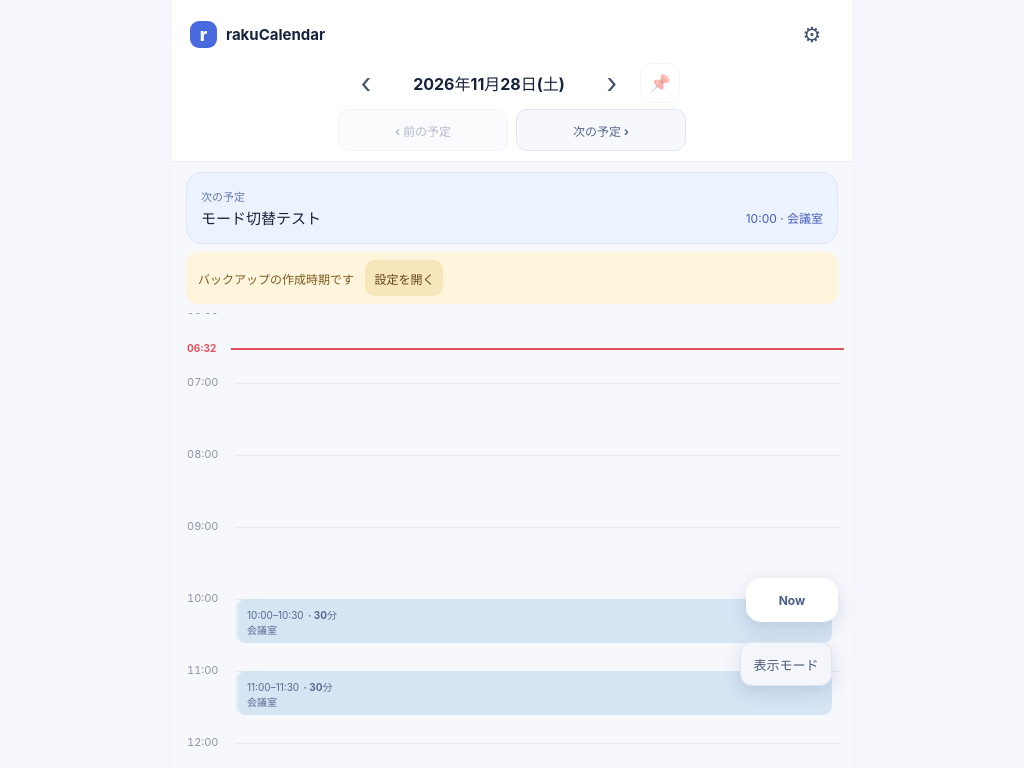
Test: calendar viewing and editing modes › keeps schedule changes out of viewing mode and exposes them in editing mode
Later steps or results of the test are not shown.
(page scrolled)
Expected: the button with class "mode-toggle" reads "表示モード", [740,642,832,686]
Expected: the button with class "now-button" reads "Now", [746,578,838,622]
Click the button with class "event-card" showing "10:00–10:30 · 30分 会議室".
click(295, 614)  # box [236,599,832,643]
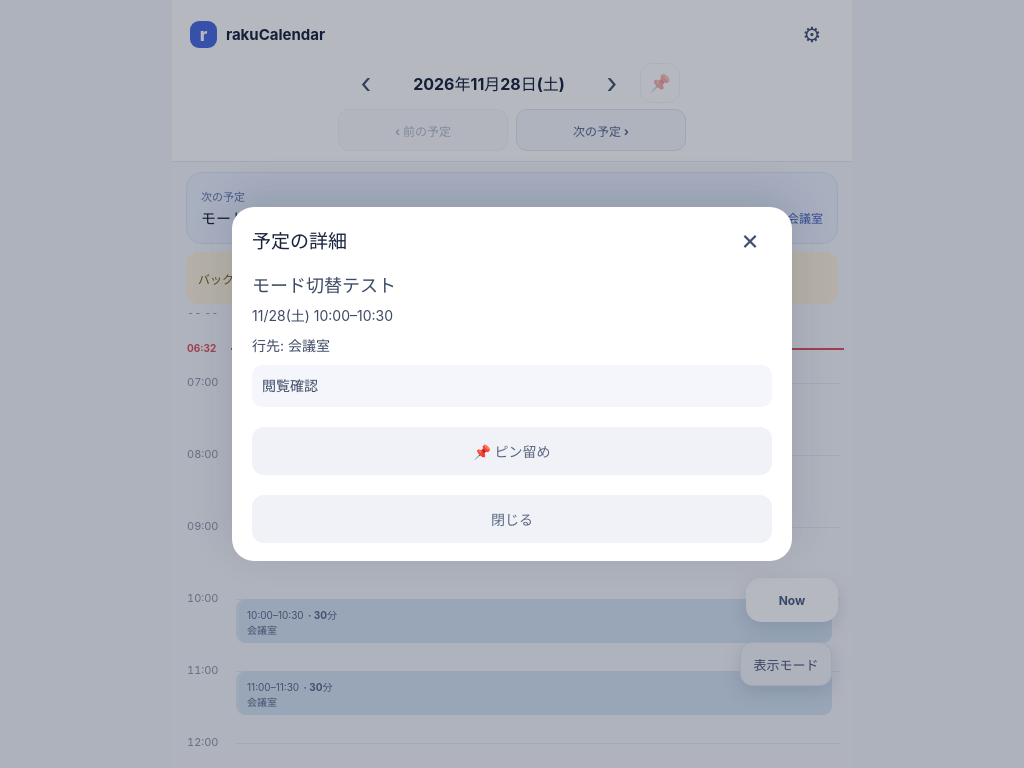
Expected: the heading "予定の詳細" is shown, [252,226,347,253]
Expected: the text with class "event-detail-memo" reads "閲覧確認", [262,377,318,394]
Click the button named "閉じる".
click(750, 240)  # box [728,218,772,262]
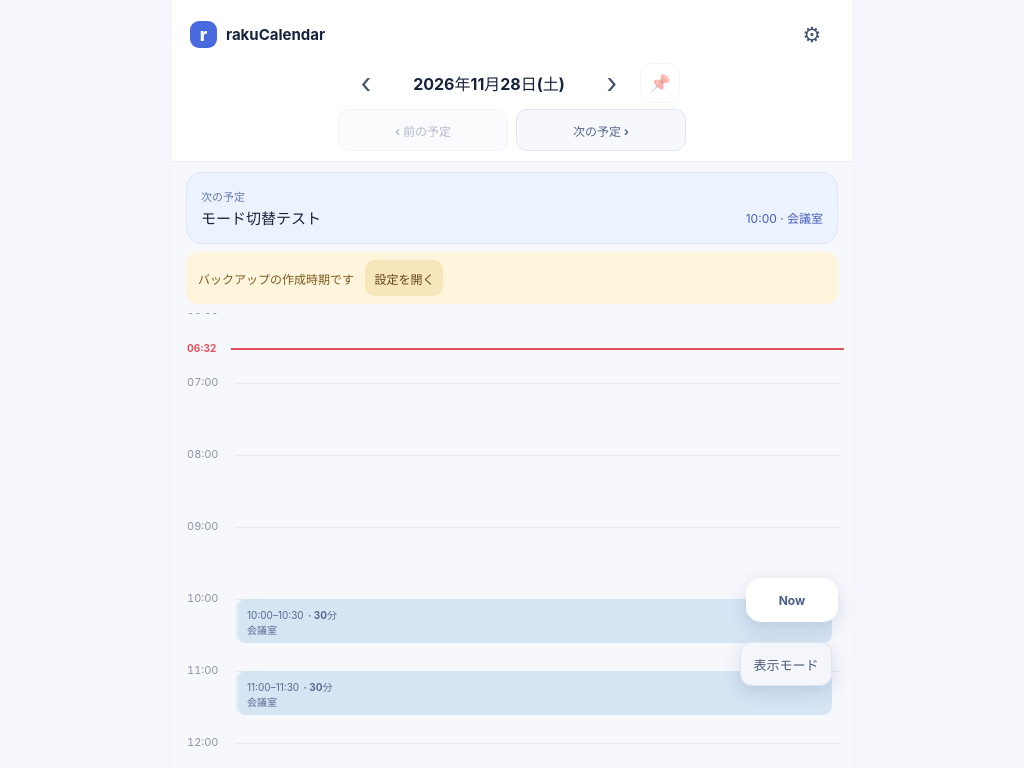
Click the button with class "mode-toggle".
click(786, 664)  # box [740,642,832,686]
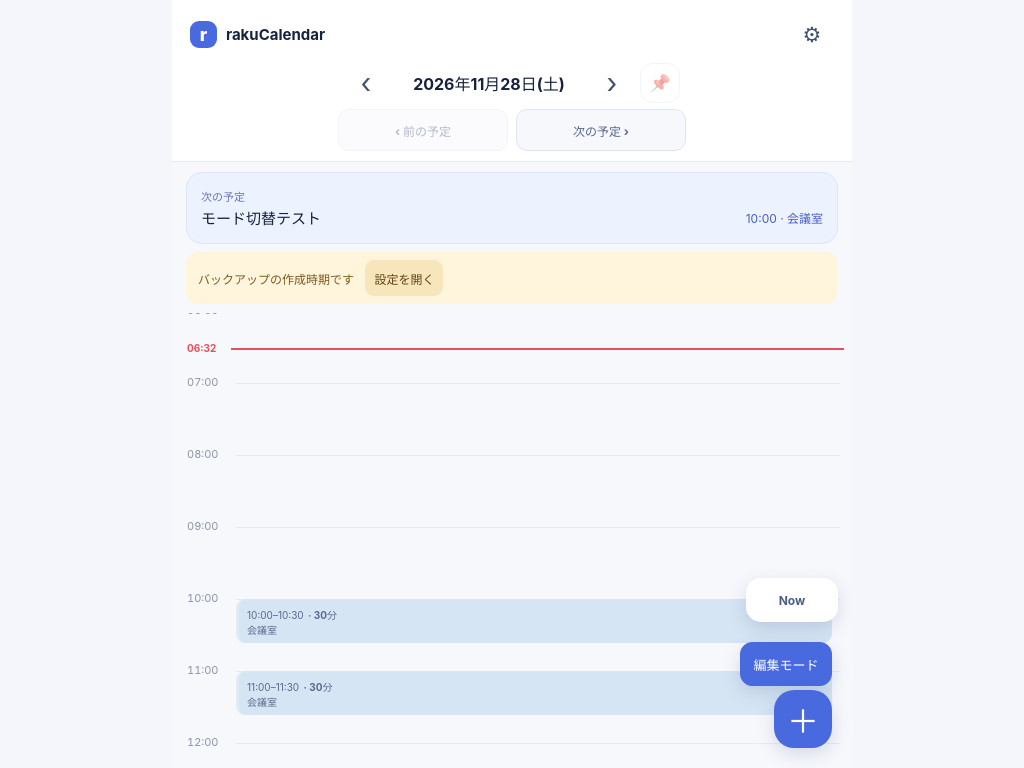
Expected: the 1st text with class "event-duration" shows "30分", [314,609,337,621]
Expected: the button with class "mode-toggle" reads "編集モード", [740,642,832,686]
Expected: the button with class "add-button" is shown, [774,690,832,748]
Click the button with class "event-card" showing "10:00–10:30 · 30分 会議室".
click(295, 614)  # box [236,599,832,643]
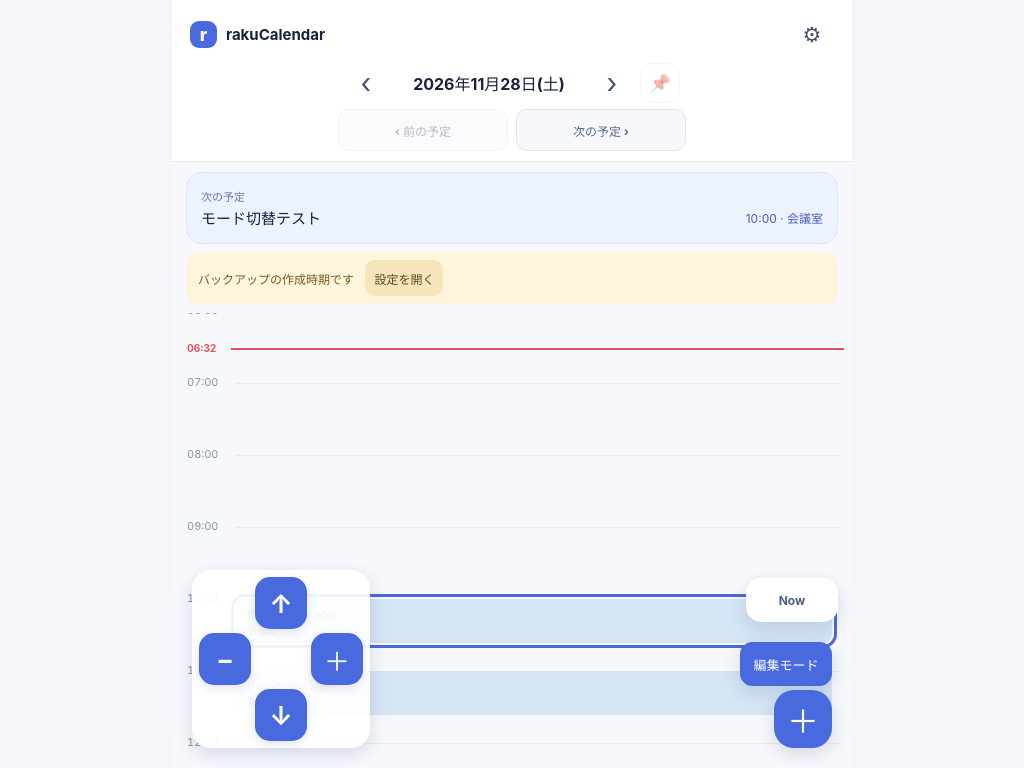
Expected: the element with class "time-adjust-controls" is shown, [192,570,370,748]
